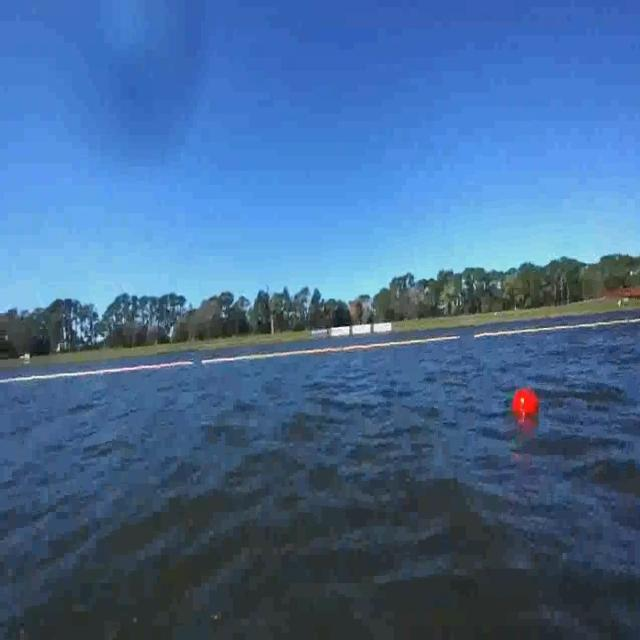red-buoy: (512, 391, 537, 420)
